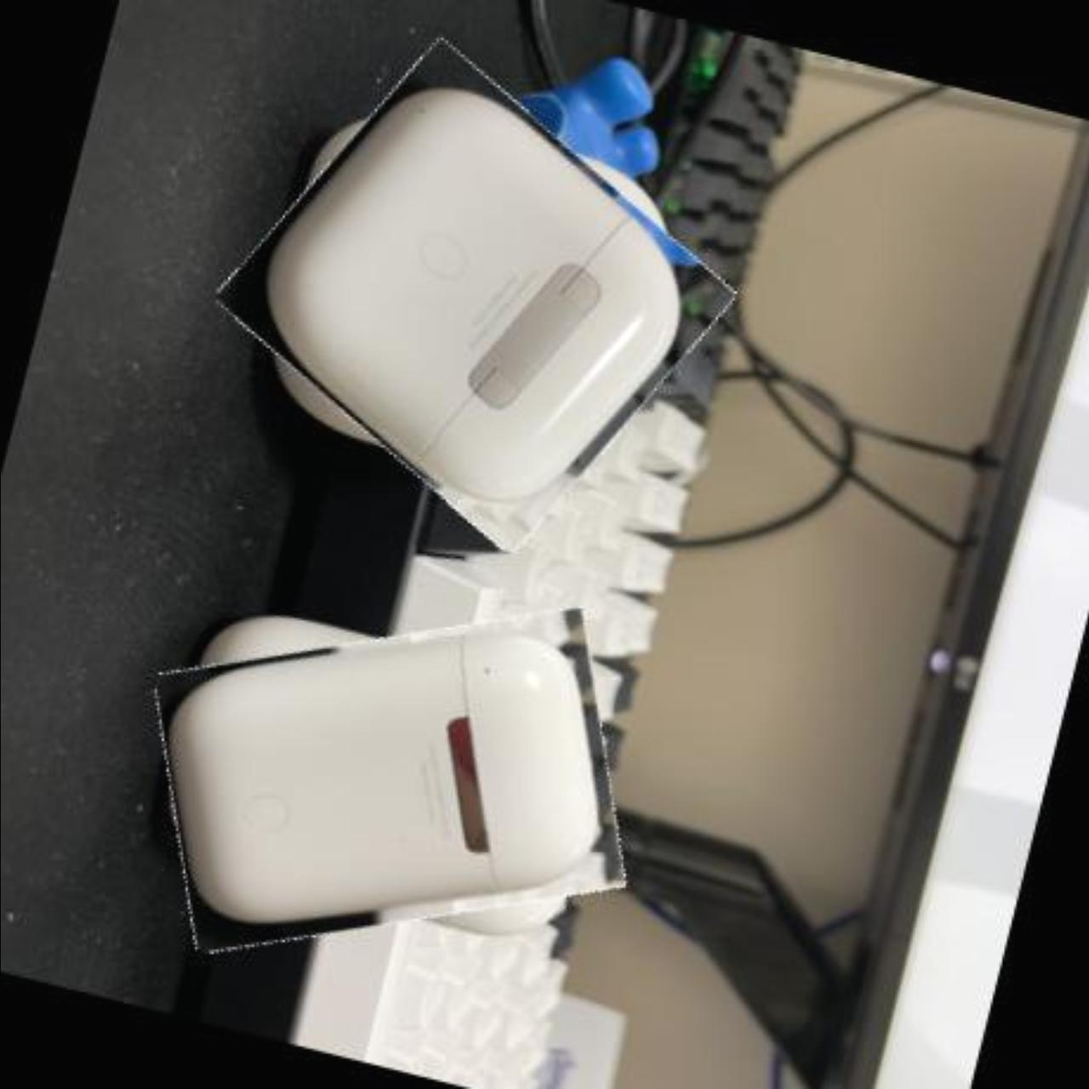AirPods: (205, 38, 742, 551), (119, 548, 661, 1007)
